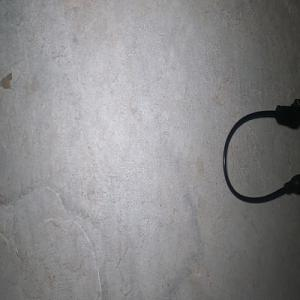Wire: (222, 98, 300, 203)
